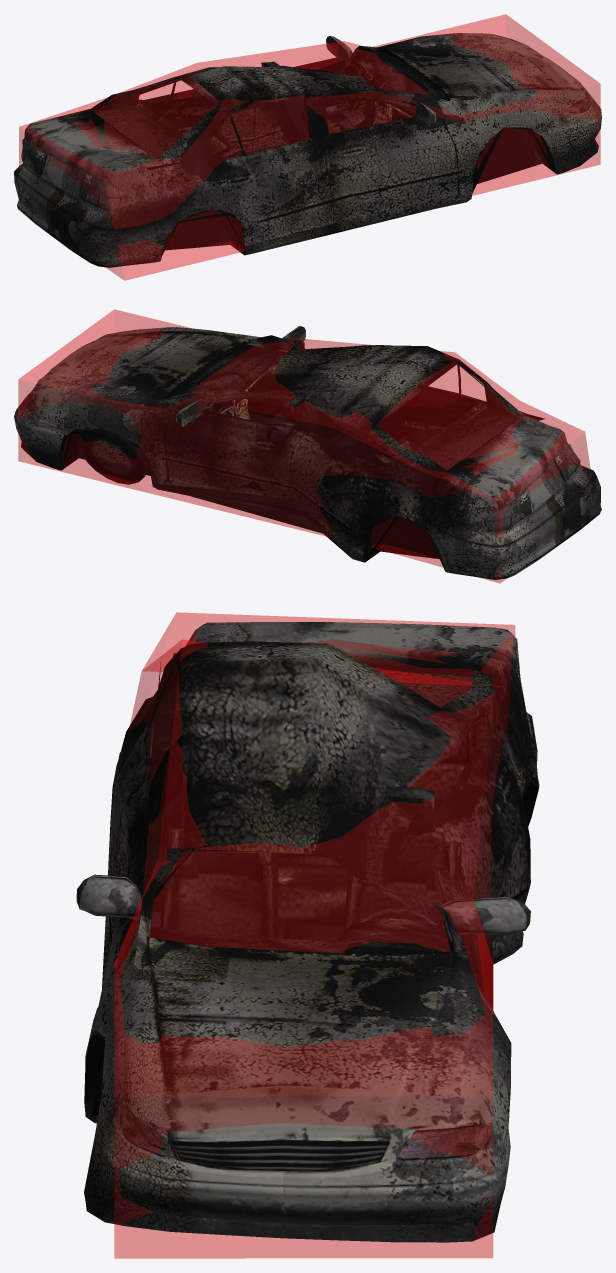
File: CarDestroyed.DAE
3 renders of one model, top to bottom at view 1: azimuth 30°, elevation 25°; view 2: azimuth 150°, elevation 25°; view 3: azimuth 270°, elevation 25°, orthographic. The views are drawn at different scales.
Parts seen in each view (by area): view 1: cars800, colMesh-1, cars400, cars100; view 2: cars800, colMesh-1, cars400, cars100; view 3: cars800, colMesh-1, cars400, cars100.
Part boxes in pixels (x1,y1,x2,y2): cars800: (14,33,601,266); colMesh-1: (19,14,600,280); cars400: (14,37,597,267); cars100: (45,46,595,266); cars800: (14,326,601,579); colMesh-1: (18,309,590,583); cars400: (19,330,600,579); cars100: (27,335,566,578); cars800: (76,622,539,1242); colMesh-1: (114,612,514,1258); cars400: (84,622,538,1242); cars100: (84,642,537,1212).
Size of the model in its own units: 535 by 207 by 150.
